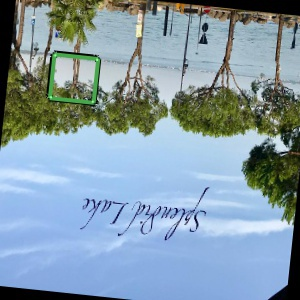square: (45, 49, 103, 108)
